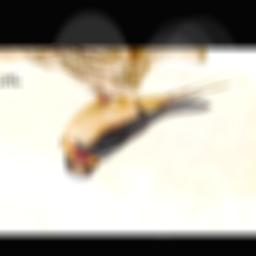Swallow: (58, 74, 232, 180)
